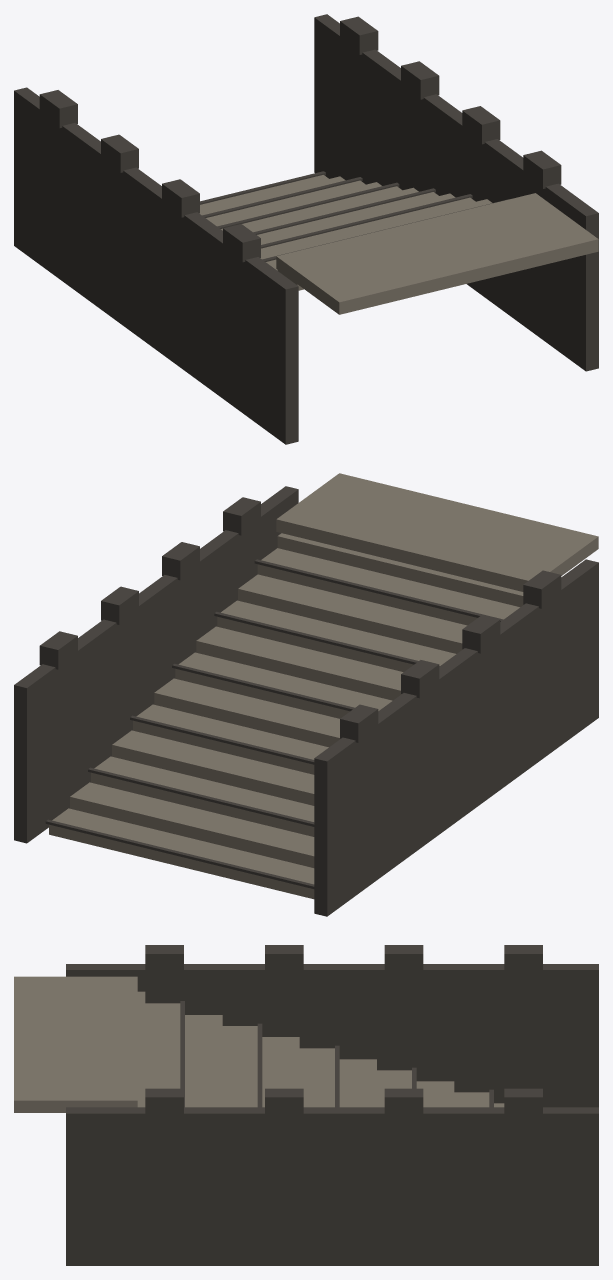
The model's file is castle_stairs.glb.
The picture shows the model from 3 angles, top to bottom: view 1: azimuth 30°, elevation 25°; view 2: azimuth 150°, elevation 25°; view 3: azimuth 270°, elevation 25°; orthographic projection. The views are drawn at different scales.
Visible parts, largest first — view 1: stair_side_wall_-4.4, stair_side_wall_4.4, stair_top_landing, stair_tread_9, stair_tread_8, stair_tread_7, stair_side_merlon_4.4_0, stair_side_merlon_4.4_1, stair_side_merlon_-4.4_0, stair_side_merlon_4.4_2, stair_side_merlon_4.4_3, stair_tread_6 (+13 smaller); view 2: stair_side_wall_-4.4, stair_side_wall_4.4, stair_top_landing, stair_tread_1, stair_tread_0, stair_tread_9, stair_tread_10, stair_tread_7, stair_tread_3, stair_tread_2, stair_tread_8, stair_tread_5 (+17 smaller); view 3: stair_side_wall_4.4, stair_side_wall_-4.4, stair_top_landing, stair_tread_9, stair_tread_10, stair_tread_8, stair_tread_6, stair_tread_7, stair_tread_5, stair_side_merlon_4.4_1, stair_side_merlon_4.4_0, stair_side_merlon_4.4_2 (+11 smaller).
Boxes of the visible parts, box(x1,y1,x2,y2) form: stair_side_wall_-4.4: box(14, 87, 298, 444); stair_side_wall_4.4: box(314, 14, 598, 371); stair_top_landing: box(276, 193, 598, 314); stair_tread_9: box(260, 199, 492, 259); stair_tread_8: box(261, 197, 475, 253); stair_tread_7: box(261, 193, 455, 244); stair_side_merlon_4.4_0: box(340, 16, 378, 54); stair_side_merlon_4.4_1: box(401, 61, 439, 99); stair_side_merlon_-4.4_0: box(39, 90, 77, 128); stair_side_merlon_4.4_2: box(462, 106, 500, 144); stair_side_merlon_4.4_3: box(523, 150, 561, 188); stair_tread_6: box(257, 192, 438, 239); stair_side_wall_-4.4: box(314, 559, 598, 916); stair_side_wall_4.4: box(14, 486, 298, 843); stair_top_landing: box(276, 473, 598, 591); stair_tread_1: box(70, 782, 314, 867); stair_tread_0: box(49, 808, 314, 899); stair_tread_9: box(238, 574, 467, 653); stair_tread_10: box(257, 548, 519, 625); stair_tread_7: box(196, 626, 403, 700); stair_tread_3: box(112, 730, 314, 805); stair_tread_2: box(91, 756, 314, 836); stair_tread_8: box(217, 600, 456, 672); stair_tread_5: box(154, 678, 340, 747); stair_side_wall_4.4: box(66, 1107, 598, 1265); stair_side_wall_-4.4: box(66, 964, 598, 1107); stair_top_landing: box(14, 976, 137, 1112); stair_tread_9: box(185, 1015, 222, 1107); stair_tread_10: box(145, 1003, 180, 1088); stair_tread_8: box(222, 1026, 257, 1107); stair_tread_6: box(299, 1048, 334, 1107); stair_tread_7: box(262, 1037, 299, 1107); stair_tread_5: box(339, 1059, 376, 1107); stair_side_merlon_4.4_1: box(384, 1088, 423, 1116); stair_side_merlon_4.4_0: box(504, 1088, 542, 1116); stair_side_merlon_4.4_2: box(265, 1088, 303, 1116).
Size of the model in its own units: 9.34 by 4.85 by 15.15.
